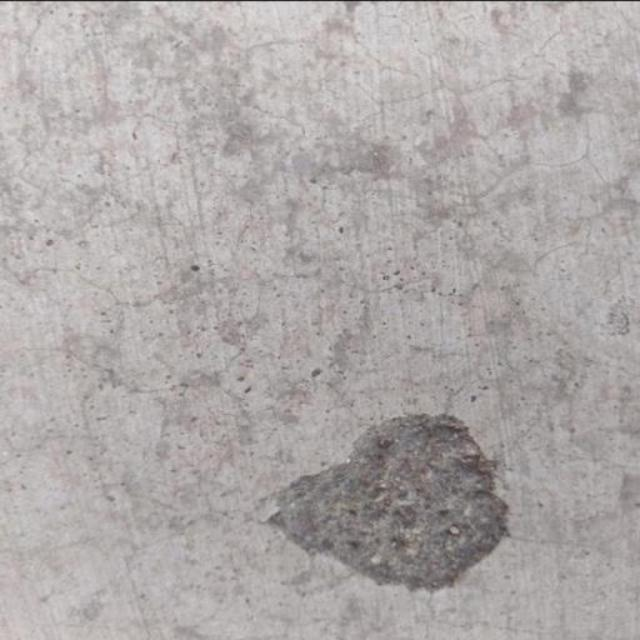D10: (266, 410, 513, 591)
